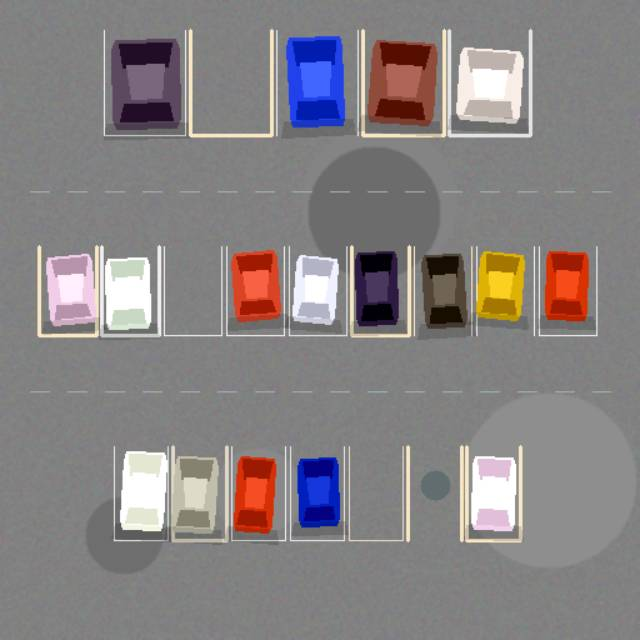space-empty: (190, 30, 271, 135), (164, 246, 221, 335), (349, 446, 402, 540), (408, 446, 461, 540)
space-occupied: (104, 30, 185, 135), (276, 30, 357, 135), (363, 30, 444, 135), (449, 30, 530, 135), (101, 246, 159, 335), (226, 246, 284, 335), (351, 246, 409, 335), (476, 246, 534, 335), (114, 446, 168, 540), (172, 446, 226, 540), (231, 446, 285, 540), (290, 446, 344, 540), (466, 446, 520, 540), (39, 246, 96, 335), (289, 246, 346, 335), (414, 246, 471, 335), (539, 246, 596, 335)
